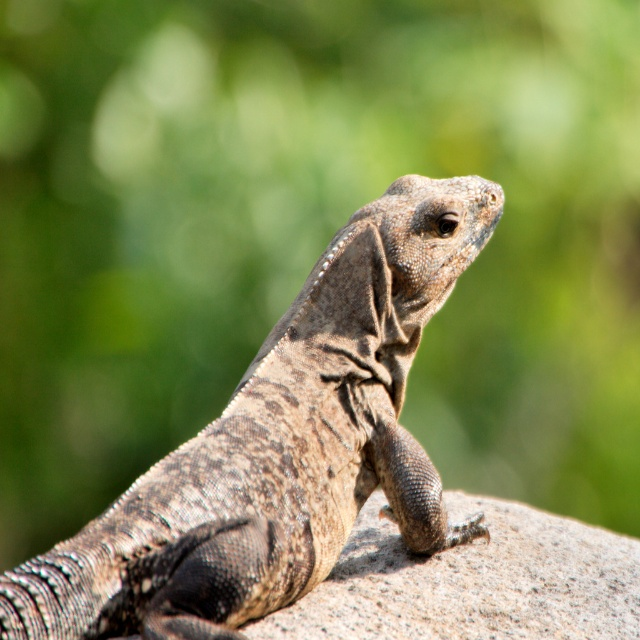Lizard: (10, 146, 502, 640)
